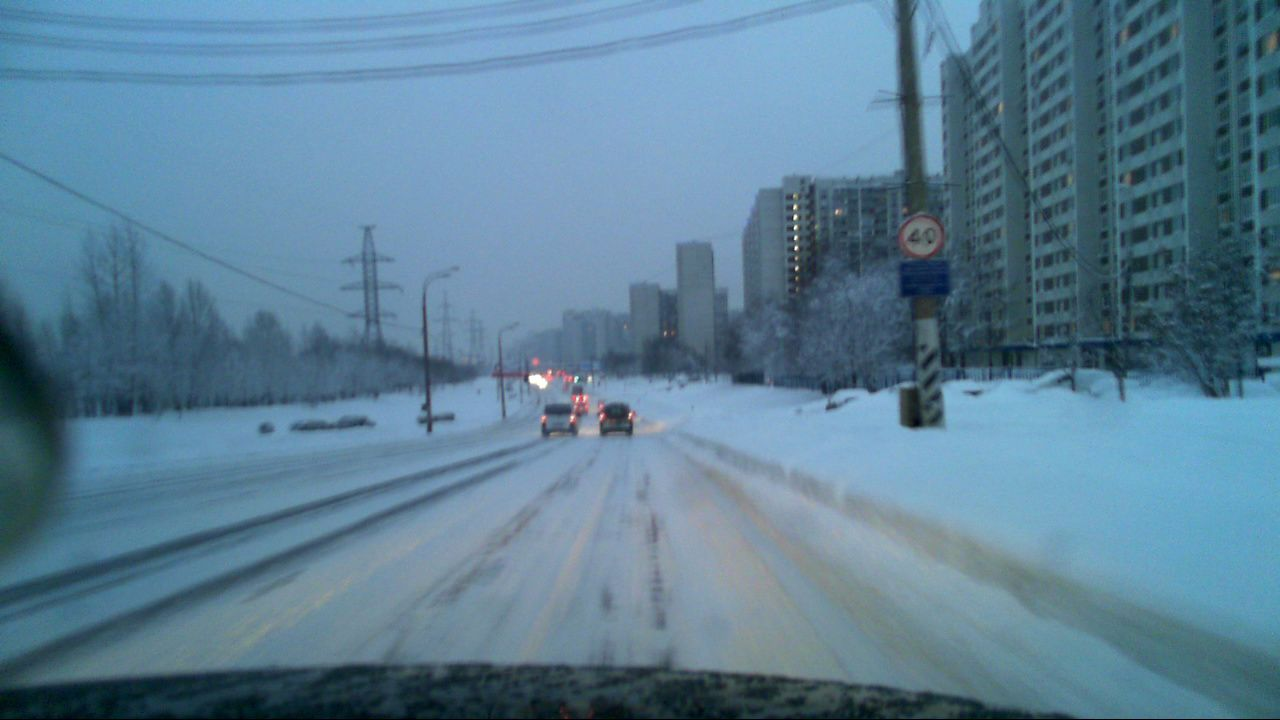speed_warning_40: (894, 208, 945, 258)
